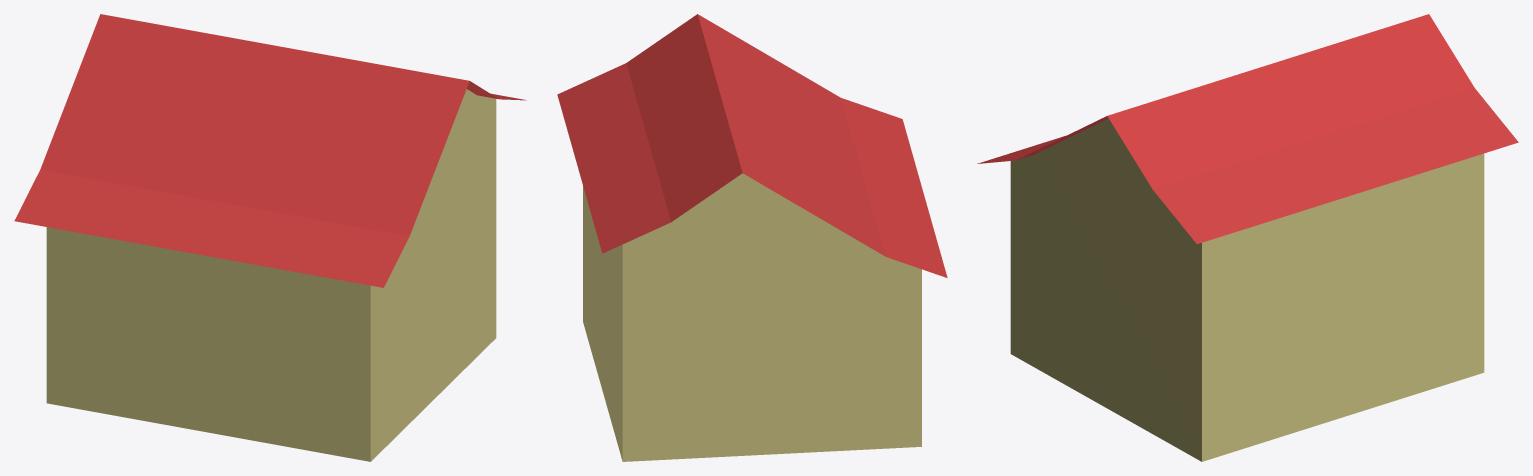
The picture shows the model from 3 angles, left to right: view 1: azimuth 30°, elevation 25°; view 2: azimuth 150°, elevation 25°; view 3: azimuth 270°, elevation 25°; orthographic projection. The views are drawn at different scales.
Size of the model in its own units: 21.75 by 22.02 by 13.88.
